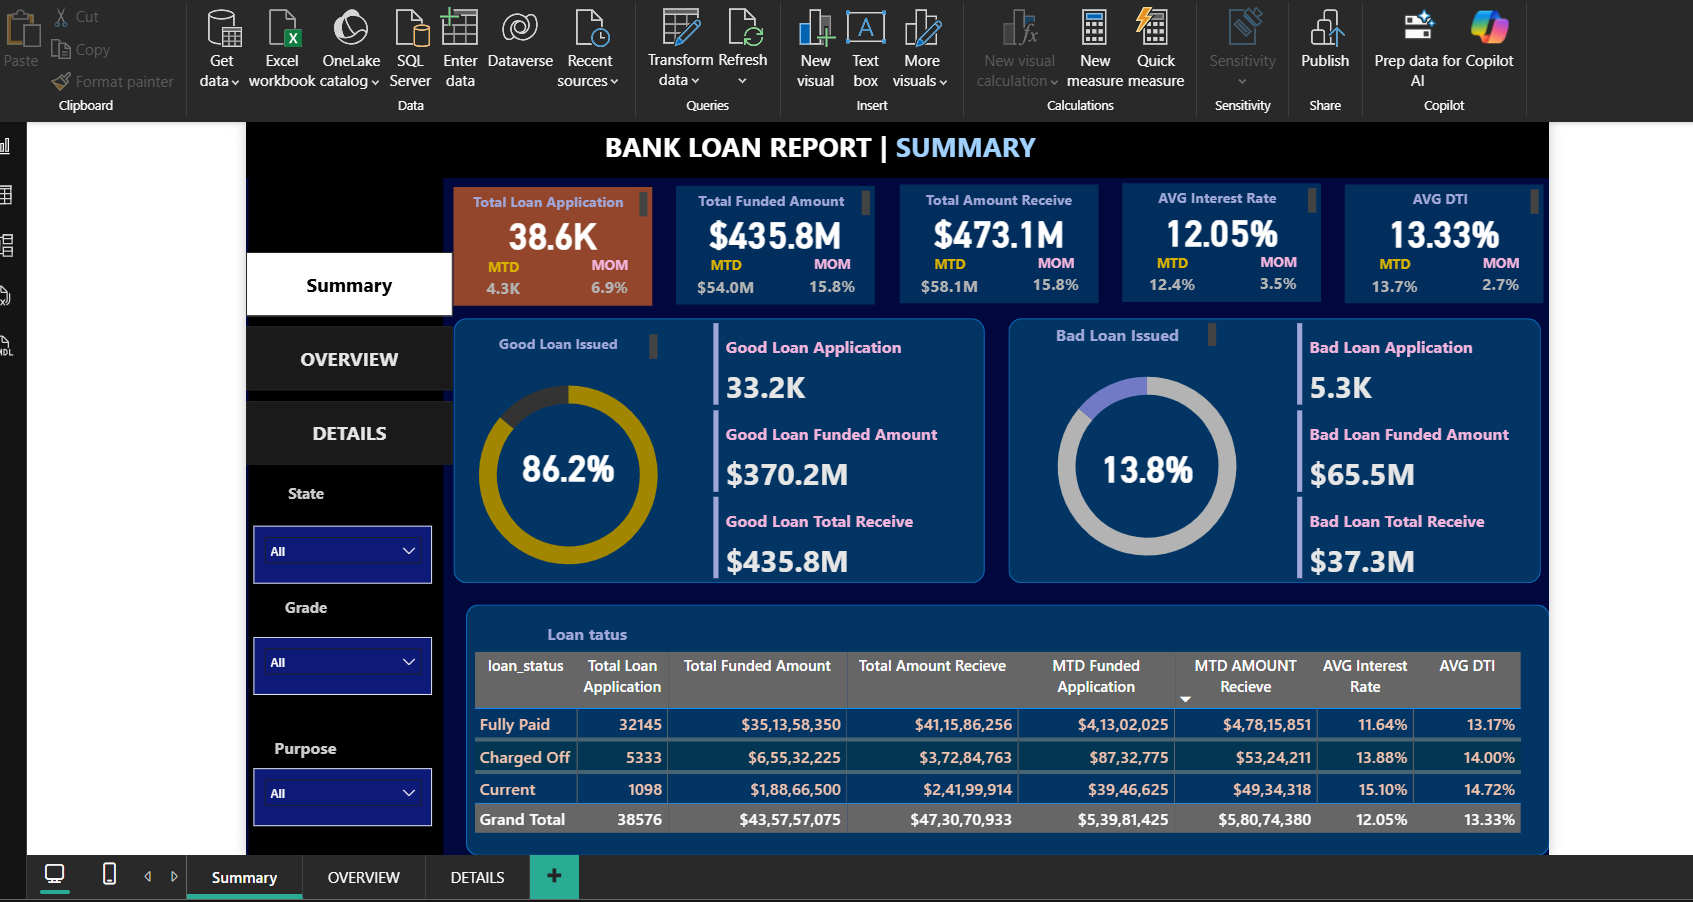

What the dashboard file says about the page in this screenshot:
{"tool":"powerbi","page":{"name":"Summary","canvas":[1280,720],"ordinal":0},"visuals":[{"type":"shape","box":[0,0,1280,55],"z":0},{"type":"shape","box":[859.8,60.3,195.1,116.6],"z":0,"group":"g2"},{"type":"shape","box":[641.1,61.4,195.1,116.6],"z":0,"group":"g3"},{"type":"shape","box":[1078.5,61.4,195.1,116.6],"z":0,"group":"g4"},{"type":"shape","box":[422.4,62.6,195.1,116.6],"z":0,"group":"g5"},{"type":"shape","box":[203.7,63.8,195.1,116.6],"z":0,"group":"g6"},{"type":"shape","box":[2.5,55.2,191.4,665],"z":1000},{"type":"card","fields":{"Values":["Bank_loan_data.AVG Interest Rate"]},"box":[859.8,83.6,195.1,45.4],"z":1000,"group":"g2"},{"type":"card","fields":{"Values":["Bank_loan_data.Total Amount Recieve"]},"box":[641.1,84.7,195.1,45.4],"z":1000,"group":"g3"},{"type":"card","fields":{"Values":["Bank_loan_data.AVG DTI"]},"box":[1078.5,84.7,195.1,45.4],"z":1000,"group":"g4"},{"type":"card","fields":{"Values":["Bank_loan_data.Total Funded Amount"]},"box":[422.4,85.9,195.1,45.4],"z":1000,"group":"g5"},{"type":"card","fields":{"Values":["Bank_loan_data.Total Loan Application"]},"box":[203.7,87.1,195.1,45.4],"z":1000,"group":"g6"},{"type":"textbox","box":[859.8,60.3,195.1,39.3],"z":2000,"group":"g2"},{"type":"textbox","box":[641.1,61.4,195.1,39.3],"z":2000,"group":"g3"},{"type":"textbox","box":[1078.5,61.4,195.1,39.3],"z":2000,"group":"g4"},{"type":"textbox","box":[422.4,62.6,195.1,39.3],"z":2000,"group":"g5"},{"type":"textbox","box":[203.7,63.8,195.1,39.3],"z":2000,"group":"g6"},{"type":"shape","box":[203.7,192.6,521.5,260.1],"z":2000},{"type":"card","title":"MTD","fields":{"Values":["Bank_loan_data.MTD Interest Amount"]},"box":[869.6,129,78.5,47.9],"z":3000,"group":"g2"},{"type":"card","title":"MTD","fields":{"Values":["Bank_loan_data.MTD AMOUNT Recieve"]},"box":[650.9,130.1,78.5,47.9],"z":3000,"group":"g3"},{"type":"card","title":"MTD","fields":{"Values":["Bank_loan_data.MTD DTI"]},"box":[1088.3,130.1,78.5,47.9],"z":3000,"group":"g4"},{"type":"card","title":"MTD","fields":{"Values":["Bank_loan_data.MTD Funded Application"]},"box":[432.2,131.3,78.5,47.9],"z":3000,"group":"g5"},{"type":"card","title":"MTD","fields":{"Values":["Bank_loan_data.MTD Loan Application"]},"box":[213.5,132.5,78.5,47.9],"z":3000,"group":"g6"},{"type":"card","fields":{"Values":["Bank_loan_data.Good Loan %"]},"box":[238,314.1,157.1,45.4],"z":3000},{"type":"card","title":"MOM","fields":{"Values":["Bank_loan_data.MOM Interest Rate"]},"box":[974.1,127.6,78.5,47.9],"z":4000,"group":"g2"},{"type":"card","title":"MOM","fields":{"Values":["Bank_loan_data.MOM Amount Recieve"]},"box":[755.4,128.7,78.5,47.9],"z":4000,"group":"g3"},{"type":"card","title":"MOM","fields":{"Values":["Bank_loan_data.MOM DTI"]},"box":[1192.8,128.7,78.5,47.9],"z":4000,"group":"g4"},{"type":"card","title":"MOM","fields":{"Values":["Bank_loan_data.MOM Funded Application"]},"box":[536.7,129.9,78.5,47.9],"z":4000,"group":"g5"},{"type":"card","title":"MOM","fields":{"Values":["Bank_loan_data.MOM Loan Application"]},"box":[318,131.1,78.5,47.9],"z":4000,"group":"g6"},{"type":"textbox","box":[213.5,203.7,195.1,39.3],"z":4000},{"type":"textbox","box":[347.2,1.2,449.1,51.5],"z":5000},{"type":"group","id":"g1","title":"Group 1","box":[203.7,63.8,195.1,116.6],"z":6000},{"type":"donutChart","fields":{"Category":["Bank_loan_data.GOOD VS BAD LOAN"],"Y":["Bank_loan_data.Total Loan Application"]},"box":[191.4,231.9,250.3,229.4],"z":7000},{"type":"group","id":"g2","title":"Group 2","box":[859.8,60.3,195.1,116.6],"z":7003,"group":"g9"},{"type":"group","id":"g3","title":"Group 2","box":[641.1,61.4,195.1,116.6],"z":7003,"group":"g8"},{"type":"group","id":"g4","title":"Group 2","box":[1078.5,61.4,195.1,116.6],"z":7003,"group":"g10"},{"type":"group","id":"g5","title":"Group 2","box":[422.4,62.6,195.1,116.6],"z":7003,"group":"g7"},{"type":"group","id":"g6","title":"Group 2","box":[203.7,63.8,195.1,116.6],"z":7003,"group":"g1"},{"type":"group","id":"g7","title":"Group 1","box":[422.4,62.6,195.1,116.6],"z":8000},{"type":"group","id":"g8","title":"Group 1","box":[641.1,61.4,195.1,116.6],"z":9000},{"type":"group","id":"g9","title":"Group 1","box":[859.8,60.3,195.1,116.6],"z":10000},{"type":"group","id":"g10","title":"Group 1","box":[1078.5,61.4,195.1,116.6],"z":11000},{"type":"shape","box":[748.5,192.6,522.7,260.1],"z":12000},{"type":"cardVisual","fields":{"Data":["Bank_loan_data.Good Loan Application","Bank_loan_data.Good Loan Funded Amount","Bank_loan_data.Good Loan Total Receive"]},"box":[454,192.6,246.6,260.1],"z":13000},{"type":"donutChart","fields":{"Category":["Bank_loan_data.GOOD VS BAD LOAN"],"Y":["Bank_loan_data.Total Loan Application"]},"box":[759.5,223.3,250.3,229.4],"z":14000},{"type":"shape","box":[216,473.6,1063.8,246.6],"z":15000},{"type":"card","fields":{"Values":["Bank_loan_data.Good Loan %"]},"box":[266.3,359.5,157.1,9.8],"z":16000},{"type":"card","fields":{"Values":["Bank_loan_data.Bad Loan %"]},"box":[806.1,315.3,157.1,45.4],"z":17000},{"type":"textbox","box":[762,192.6,195.1,39.3],"z":18000},{"type":"tableEx","fields":{"Values":["Bank_loan_data.loan_status","Bank_loan_data.Total Loan Application","Bank_loan_data.Total Funded Amount","Bank_loan_data.Total Amount Recieve","Bank_loan_data.MTD Funded Application","Bank_loan_data.MTD AMOUNT Recieve","Bank_loan_data.AVG Interest Rate","Bank_loan_data.AVG DTI"]},"box":[218.4,515.3,1043,192.6],"z":19000},{"type":"cardVisual","fields":{"Data":["Bank_loan_data.Bad Loan Application","Bank_loan_data.Bad Loan Funded Amount","Bank_loan_data.Bad Loan Total Receive"]},"box":[1027,192.6,246.6,260.1],"z":20000},{"type":"slicer","fields":{"Values":["Bank_loan_data.address_state"]},"box":[7.4,396.3,175.5,56.4],"z":22000},{"type":"textbox","box":[13.5,349.7,90.8,39.3],"z":23000},{"type":"textbox","box":[218.4,485.9,233.1,39.3],"z":24000},{"type":"slicer","fields":{"Values":["Bank_loan_data.grade"]},"box":[7.4,505.5,175.5,56.4],"z":25000},{"type":"textbox","box":[19.6,461.4,78.5,39.3],"z":26000},{"type":"slicer","fields":{"Values":["Bank_loan_data.purpose"]},"box":[7.4,634.4,175.5,56.4],"z":27000},{"type":"textbox","box":[7.4,597.5,101.8,34.4],"z":28000},{"type":"pageNavigator","box":[0,127.6,203.7,209.8],"z":29000}]}

Visuals, with their boxes on the page's 1280x720 design canvas (x1, y1, x2, y2). These are canvas units, not pixel positions in the 1693x902 screenshot, which may show the page scaled, cropped or inside an application window:
shape: x1=0, y1=0, x2=1280, y2=55
shape: x1=860, y1=60, x2=1055, y2=177
shape: x1=641, y1=61, x2=836, y2=178
shape: x1=1078, y1=61, x2=1274, y2=178
shape: x1=422, y1=63, x2=618, y2=179
shape: x1=204, y1=64, x2=399, y2=180
shape: x1=2, y1=55, x2=194, y2=720
card - Bank_loan_data.AVG Interest Rate: x1=860, y1=84, x2=1055, y2=129
card - Bank_loan_data.Total Amount Recieve: x1=641, y1=85, x2=836, y2=130
card - Bank_loan_data.AVG DTI: x1=1078, y1=85, x2=1274, y2=130
card - Bank_loan_data.Total Funded Amount: x1=422, y1=86, x2=618, y2=131
card - Bank_loan_data.Total Loan Application: x1=204, y1=87, x2=399, y2=132
textbox: x1=860, y1=60, x2=1055, y2=100
textbox: x1=641, y1=61, x2=836, y2=101
textbox: x1=1078, y1=61, x2=1274, y2=101
textbox: x1=422, y1=63, x2=618, y2=102
textbox: x1=204, y1=64, x2=399, y2=103
shape: x1=204, y1=193, x2=725, y2=453
"MTD" card: x1=870, y1=129, x2=948, y2=177
"MTD" card: x1=651, y1=130, x2=729, y2=178
"MTD" card: x1=1088, y1=130, x2=1167, y2=178
"MTD" card: x1=432, y1=131, x2=511, y2=179
"MTD" card: x1=214, y1=132, x2=292, y2=180
card - Bank_loan_data.Good Loan %: x1=238, y1=314, x2=395, y2=360
"MOM" card: x1=974, y1=128, x2=1053, y2=176
"MOM" card: x1=755, y1=129, x2=834, y2=177
"MOM" card: x1=1193, y1=129, x2=1271, y2=177
"MOM" card: x1=537, y1=130, x2=615, y2=178
"MOM" card: x1=318, y1=131, x2=396, y2=179
textbox: x1=214, y1=204, x2=409, y2=243
textbox: x1=347, y1=1, x2=796, y2=53
"Group 1" group: x1=204, y1=64, x2=399, y2=180
donutChart - Bank_loan_data.GOOD VS BAD LOAN x Bank_loan_data.Total Loan Application: x1=191, y1=232, x2=442, y2=461
"Group 2" group: x1=860, y1=60, x2=1055, y2=177
"Group 2" group: x1=641, y1=61, x2=836, y2=178
"Group 2" group: x1=1078, y1=61, x2=1274, y2=178
"Group 2" group: x1=422, y1=63, x2=618, y2=179
"Group 2" group: x1=204, y1=64, x2=399, y2=180
"Group 1" group: x1=422, y1=63, x2=618, y2=179
"Group 1" group: x1=641, y1=61, x2=836, y2=178
"Group 1" group: x1=860, y1=60, x2=1055, y2=177
"Group 1" group: x1=1078, y1=61, x2=1274, y2=178
shape: x1=748, y1=193, x2=1271, y2=453
cardVisual - Bank_loan_data.Good Loan Application x Bank_loan_data.Good Loan Funded Amount: x1=454, y1=193, x2=701, y2=453
donutChart - Bank_loan_data.GOOD VS BAD LOAN x Bank_loan_data.Total Loan Application: x1=760, y1=223, x2=1010, y2=453
shape: x1=216, y1=474, x2=1280, y2=720
card - Bank_loan_data.Good Loan %: x1=266, y1=360, x2=423, y2=369
card - Bank_loan_data.Bad Loan %: x1=806, y1=315, x2=963, y2=361
textbox: x1=762, y1=193, x2=957, y2=232
tableEx - Bank_loan_data.loan_status x Bank_loan_data.Total Loan Application: x1=218, y1=515, x2=1261, y2=708
cardVisual - Bank_loan_data.Bad Loan Application x Bank_loan_data.Bad Loan Funded Amount: x1=1027, y1=193, x2=1274, y2=453
slicer - Bank_loan_data.address_state: x1=7, y1=396, x2=183, y2=453
textbox: x1=14, y1=350, x2=104, y2=389
textbox: x1=218, y1=486, x2=452, y2=525
slicer - Bank_loan_data.grade: x1=7, y1=506, x2=183, y2=562
textbox: x1=20, y1=461, x2=98, y2=501
slicer - Bank_loan_data.purpose: x1=7, y1=634, x2=183, y2=691
textbox: x1=7, y1=598, x2=109, y2=632
pageNavigator: x1=0, y1=128, x2=204, y2=337
